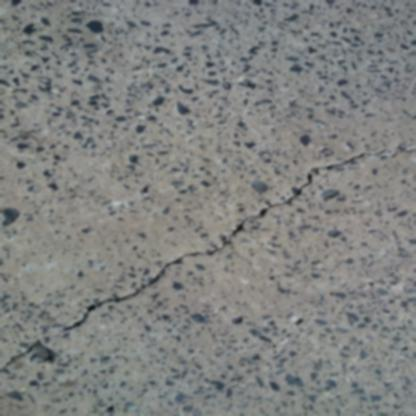Cracks: (0, 133, 416, 380)
